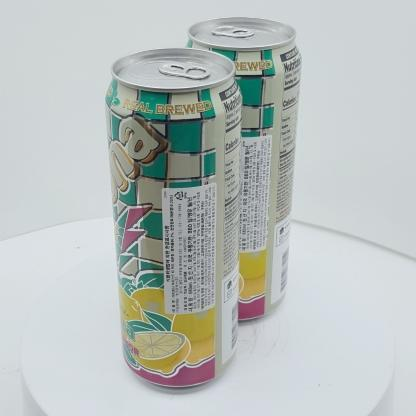-------------------680ML: (105, 47, 243, 387), (184, 16, 302, 321)
